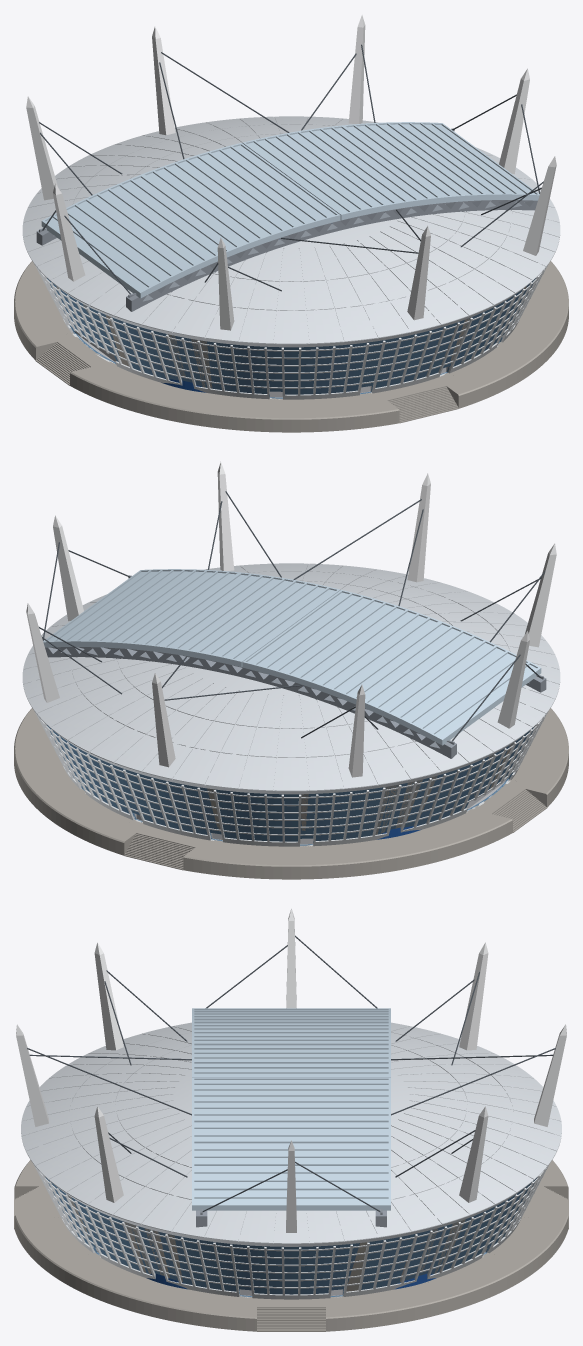
The model's file is kit_preview.glb.
3 views of the same model, one above another, from view 1: azimuth 30°, elevation 25°; view 2: azimuth 150°, elevation 25°; view 3: azimuth 270°, elevation 25° (orthographic).
Visible parts, largest first — view 1: roof_6__roof, roof_5__roof, panelopen_1__panel, panel_1__panel, panel_0__panel, roof_7__roof, panelopen_0__panel, bowl_5__podium, bowl_6__podium, bowl_5__facade, bowl_4__podium, bowl_6__facade (+23 smaller); view 2: roof_2__roof, roof_3__roof, panelopen_1__panel, panel_1__panel, panel_0__panel, roof_1__roof, panelopen_0__panel, bowl_3__podium, bowl_2__podium, bowl_3__facade, bowl_4__podium, bowl_2__facade (+23 smaller); view 3: panelopen_0__panel, panel_0__panel, roof_1__roof, roof_7__roof, roof_2__roof, roof_6__roof, panel_1__panel, bowl_0__podium, bowl_7__podium, bowl_0__facade, bowl_1__podium, roof_0__roof (+18 smaller).
Boxes of the visible parts, <box> form: roof_6__roof: <box>305,223,504,346</box>; roof_5__roof: <box>127,240,326,347</box>; panelopen_1__panel: <box>41,174,240,298</box>; panel_1__panel: <box>142,143,340,251</box>; panel_0__panel: <box>242,125,441,220</box>; roof_7__roof: <box>373,202,560,302</box>; panelopen_0__panel: <box>343,122,539,203</box>; bowl_5__podium: <box>122,334,327,432</box>; bowl_6__podium: <box>322,317,511,431</box>; bowl_5__facade: <box>131,324,325,398</box>; bowl_4__podium: <box>16,286,149,408</box>; bowl_6__facade: <box>322,304,499,394</box>; roof_2__roof: <box>78,670,277,793</box>; roof_3__roof: <box>256,687,455,794</box>; panelopen_1__panel: <box>342,621,541,745</box>; panel_1__panel: <box>242,590,440,698</box>; panel_0__panel: <box>141,572,340,667</box>; roof_1__roof: <box>22,649,209,749</box>; panelopen_0__panel: <box>43,569,239,650</box>; bowl_3__podium: <box>255,776,460,879</box>; bowl_2__podium: <box>71,788,260,878</box>; bowl_3__facade: <box>257,771,451,845</box>; bowl_4__podium: <box>433,725,566,855</box>; bowl_2__facade: <box>83,751,260,841</box>; panelopen_0__panel: <box>192,1134,390,1210</box>; panel_0__panel: <box>192,1077,390,1133</box>; roof_1__roof: <box>387,1113,541,1238</box>; roof_7__roof: <box>41,1113,195,1238</box>; roof_2__roof: <box>391,1077,561,1172</box>; roof_6__roof: <box>21,1077,191,1172</box>; panel_1__panel: <box>192,1035,390,1077</box>; bowl_0__podium: <box>184,1242,398,1331</box>; bowl_7__podium: <box>33,1194,201,1323</box>; bowl_0__facade: <box>190,1238,392,1296</box>; bowl_1__podium: <box>381,1219,549,1323</box>; roof_0__roof: <box>188,1210,394,1246</box>.
Bounding box in the file's own units: 484 × 183 × 484.
